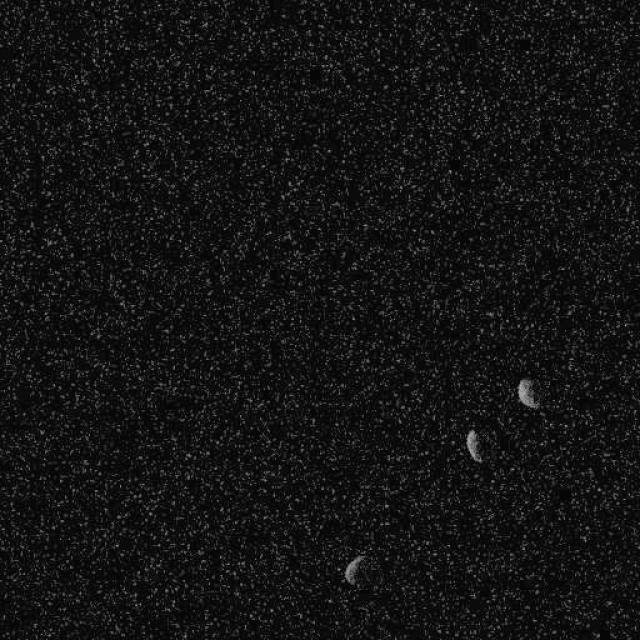D2: (342, 554, 370, 588), (516, 376, 542, 409), (465, 428, 484, 463)
